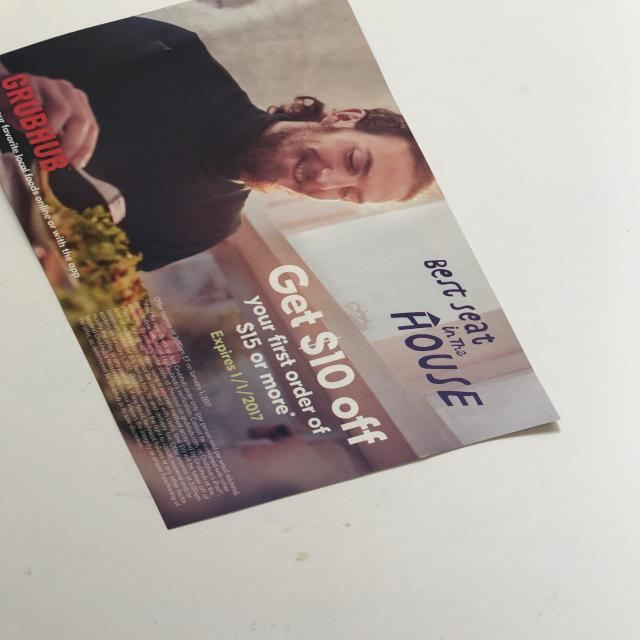paper: (2, 2, 570, 534)
